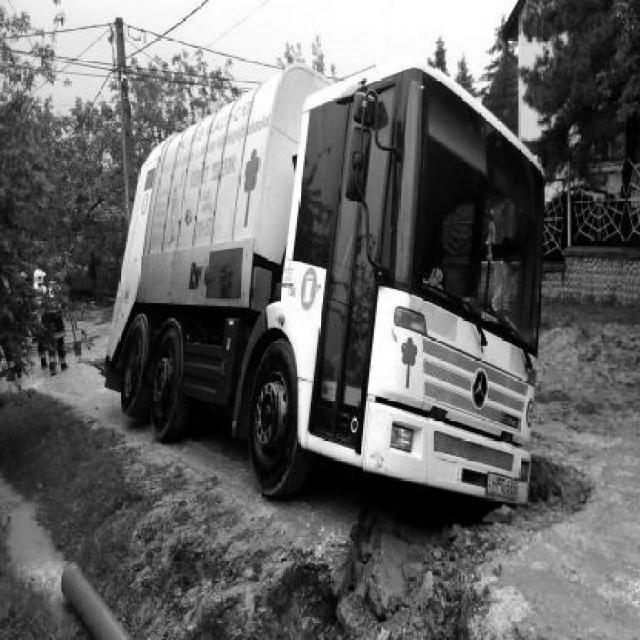Garbage Truck: (104, 60, 544, 506)
